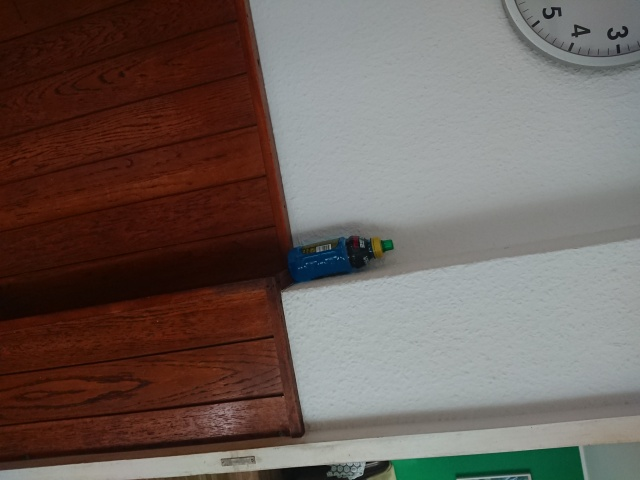Vindi Iso Sport Forest Strawberries 500mL: (285, 233, 395, 282)
